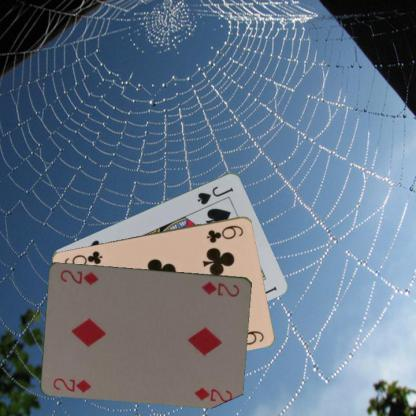2d: (199, 279, 241, 298), (51, 375, 93, 393)
6c: (204, 222, 245, 244)
Js: (194, 183, 235, 206)
